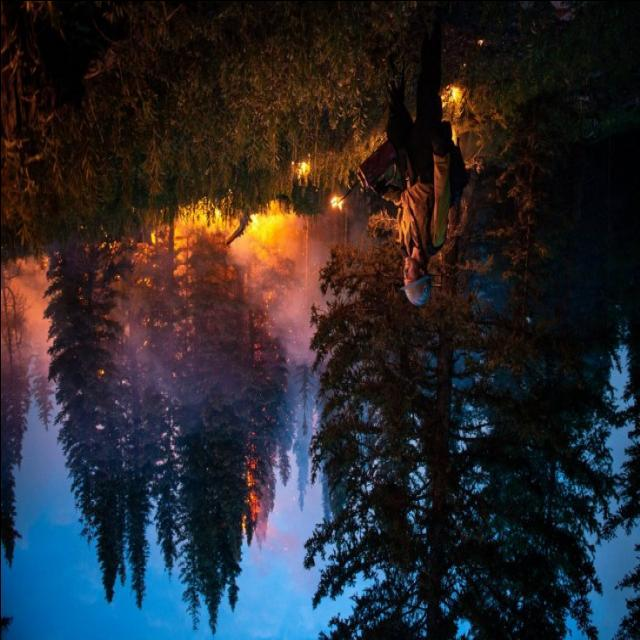Fire: (147, 197, 342, 285)
